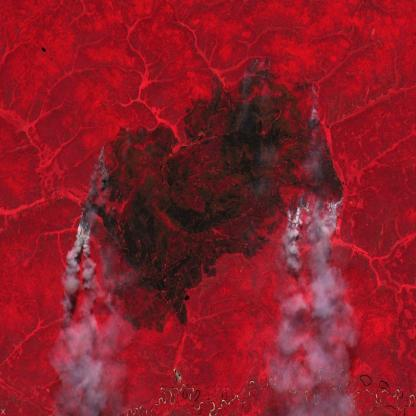fire: (77, 140, 121, 316), (286, 191, 346, 229), (235, 55, 275, 89), (301, 79, 322, 128)
